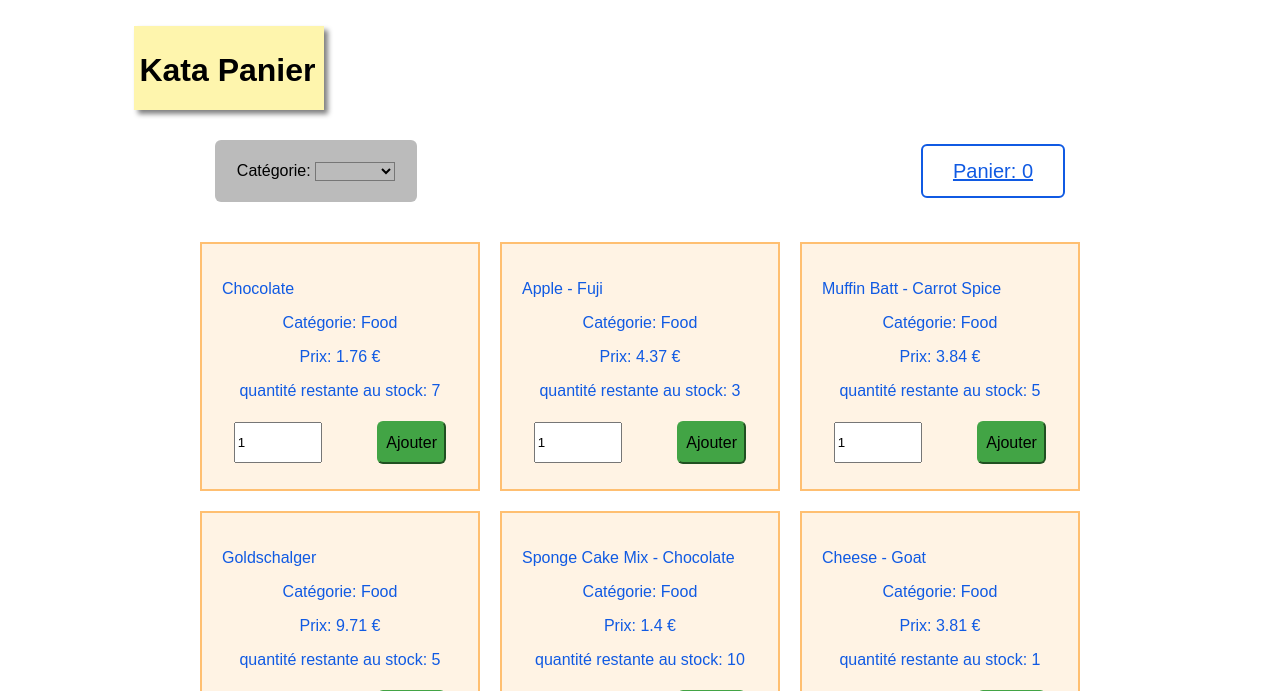
Scenario: ecommerce kata e2e test › add product in Cart
when we add first product to cart
Click the button with class "add-button" below "Prix: 1.76 €".
click(412, 443)  # box x1=377 y1=421 x2=446 y2=464
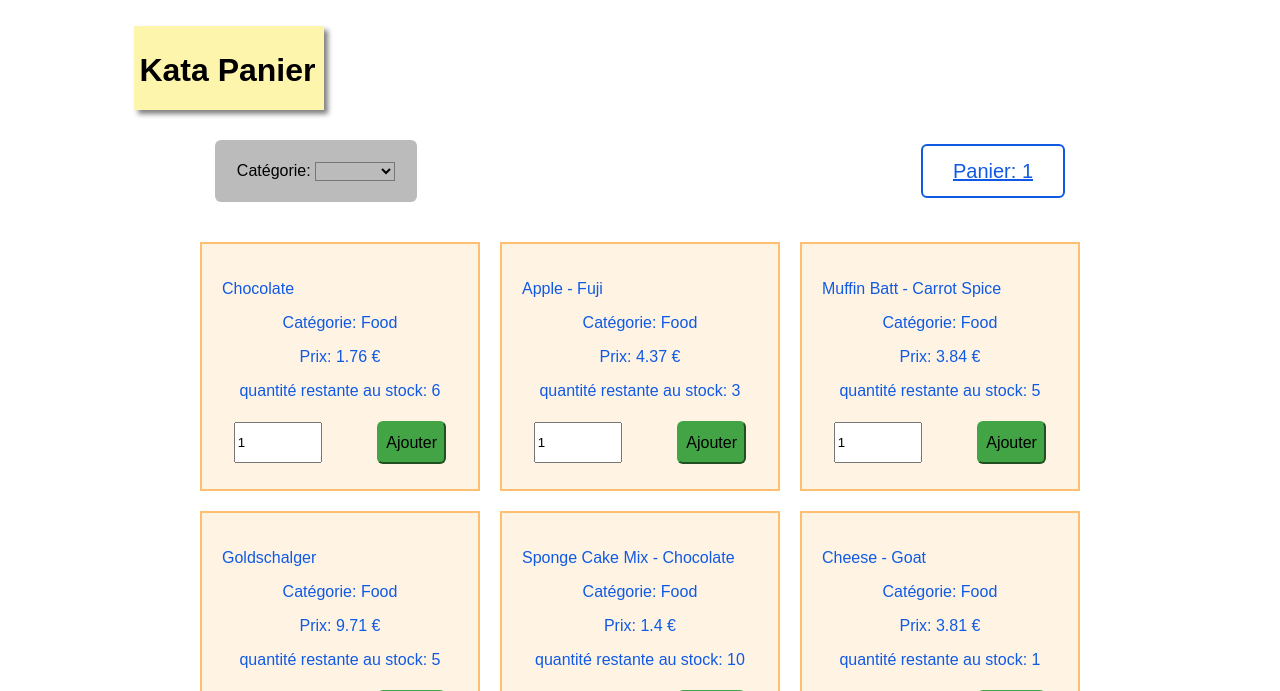
Click the button with class "add-button" below "Prix: 1.76 €".
click(412, 443)  # box x1=377 y1=421 x2=446 y2=464
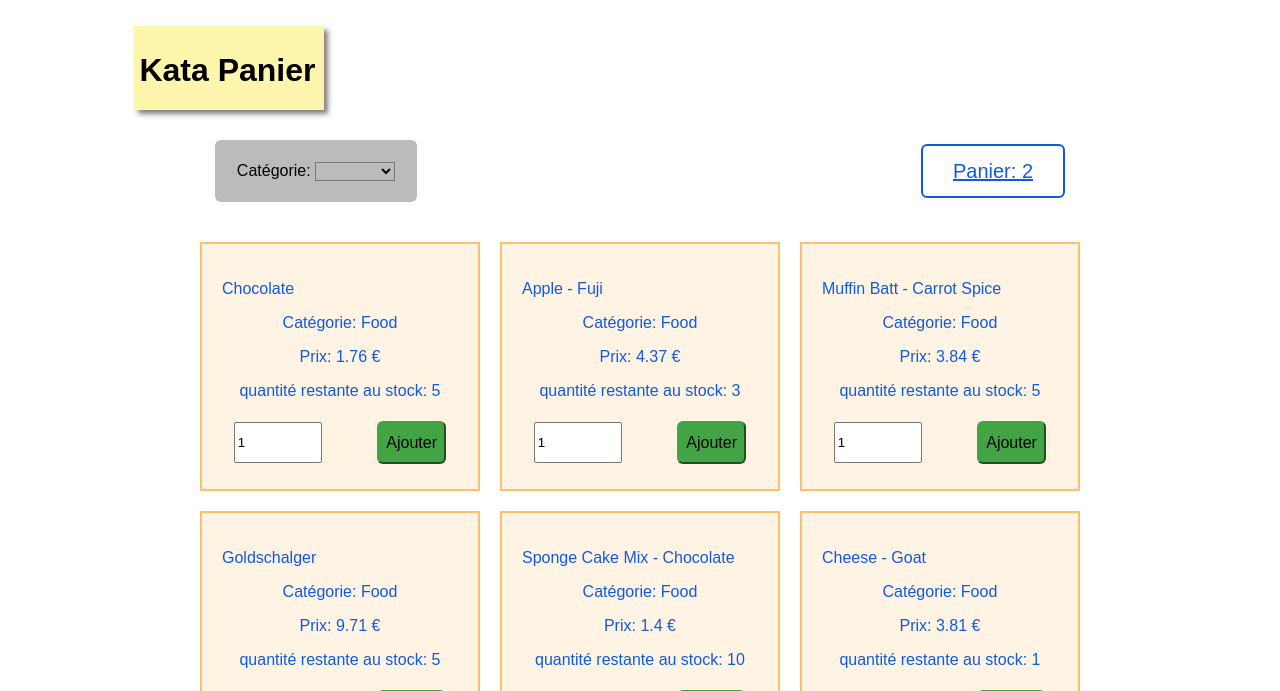
Check: the element with class "cart-link" reads "Panier: 2", box x1=921 y1=144 x2=1065 y2=198
